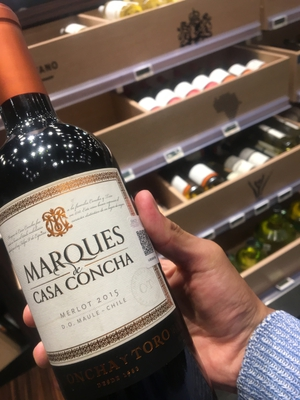marques de casa concha merlot: (2, 30, 187, 400)
